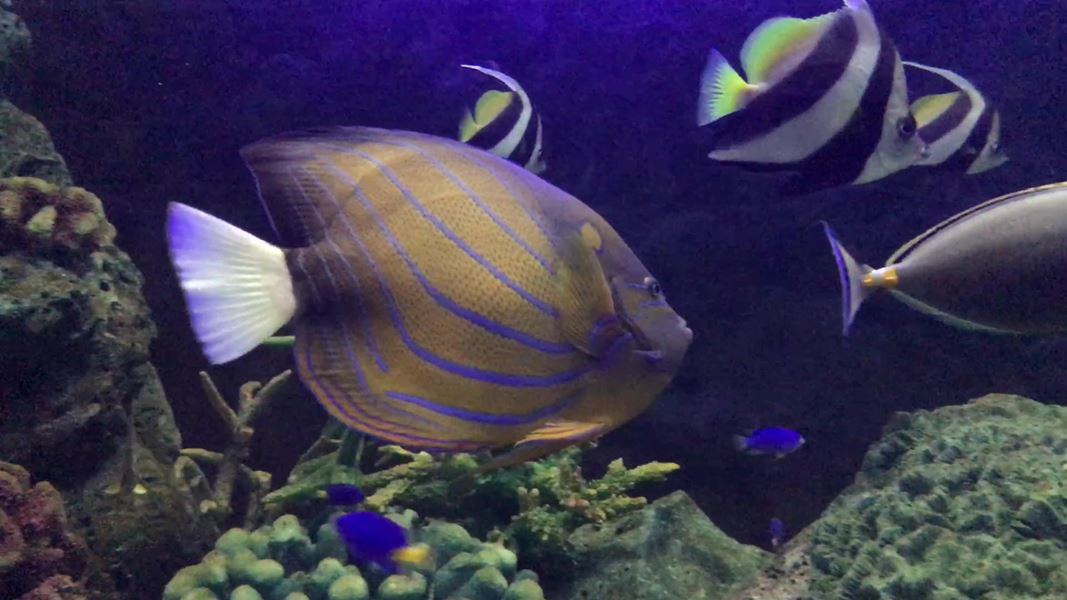Blue ring angelfish: (112, 112, 751, 519)
